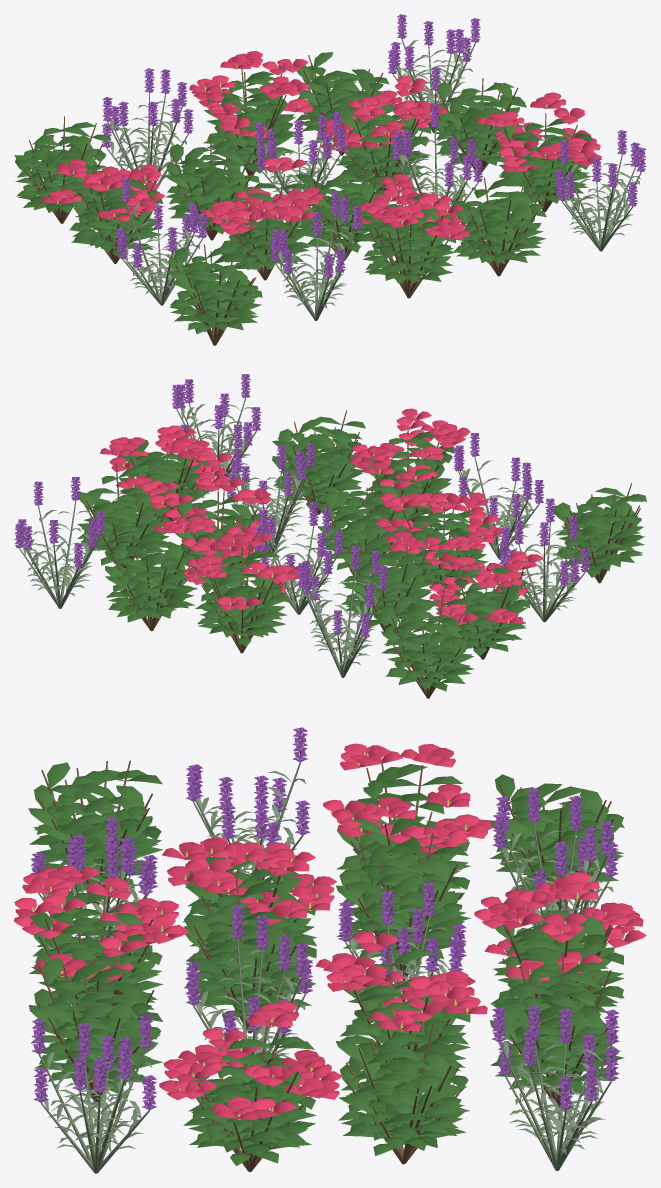
Rendered from PlantBedLOD0.fbx.
3 views of the same model, one above another, from view 1: azimuth 30°, elevation 25°; view 2: azimuth 150°, elevation 25°; view 3: azimuth 270°, elevation 25° (orthographic). The views are drawn at different scales.
Visible parts, largest first — view 1: PlantBed; view 2: PlantBed; view 3: PlantBed.
Boxes of the visible parts, x1,y1,x2,y2 form: PlantBed: (14,14,646,345); PlantBed: (14,374,646,698); PlantBed: (14,727,646,1173).
Bounding box in the file's own units: 405 × 94.54 × 325.
